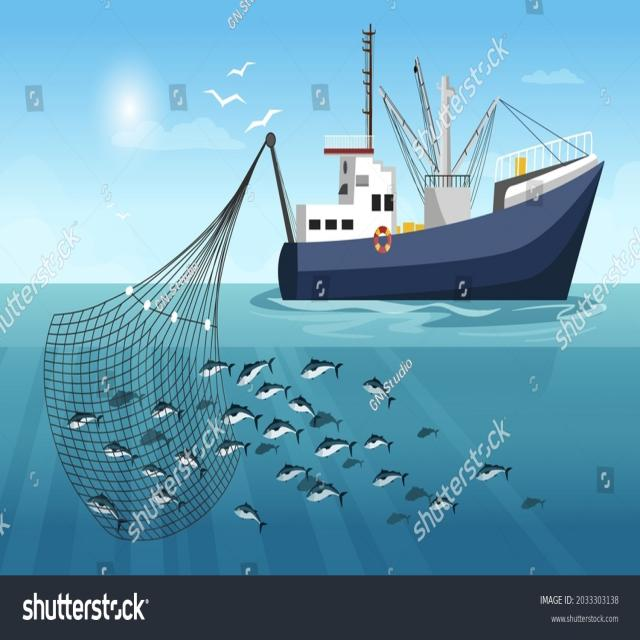boat: (253, 47, 621, 371)
